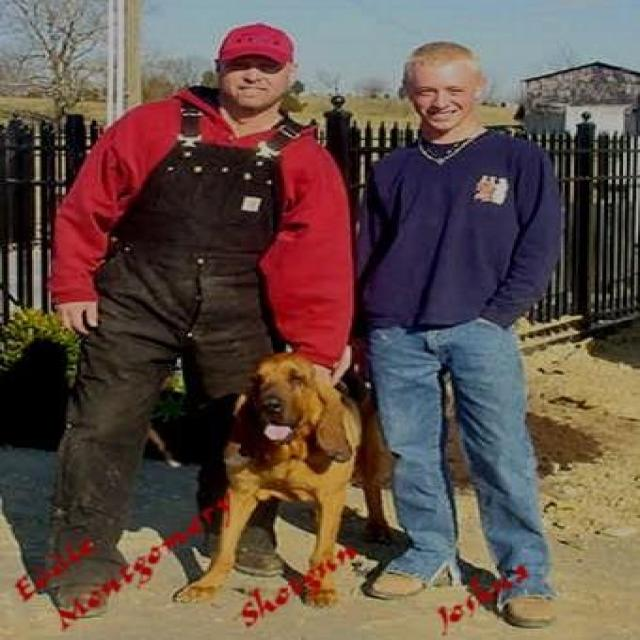bloodhound: (168, 353, 394, 607)
